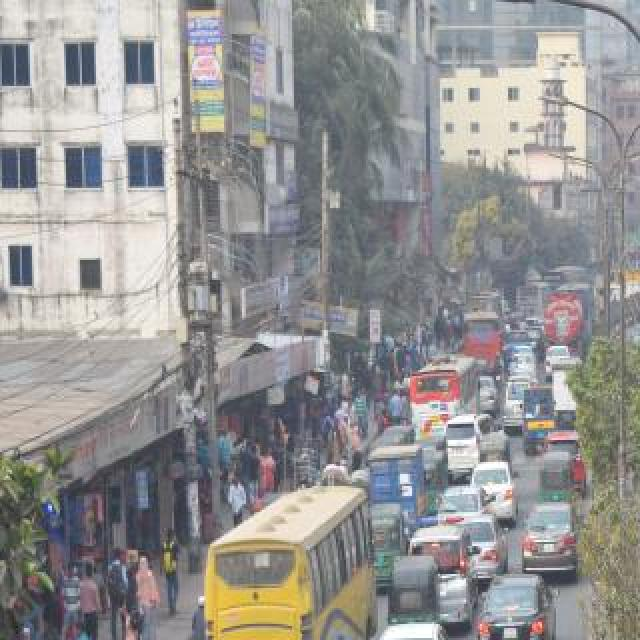bus: (204, 480, 376, 640), (410, 358, 482, 418), (463, 311, 501, 363), (517, 281, 551, 317), (467, 290, 505, 320), (544, 266, 586, 286)
car: (478, 566, 558, 640), (525, 494, 585, 578), (462, 513, 510, 577), (543, 429, 587, 493), (477, 461, 521, 523), (438, 483, 492, 523), (366, 622, 464, 640), (480, 374, 500, 416), (546, 344, 572, 368), (634, 320, 640, 354)
truck: (546, 283, 594, 347)
van: (408, 517, 478, 631), (369, 444, 431, 530), (441, 411, 511, 469), (522, 383, 558, 451), (550, 357, 584, 423), (506, 372, 526, 432), (503, 327, 531, 361)
